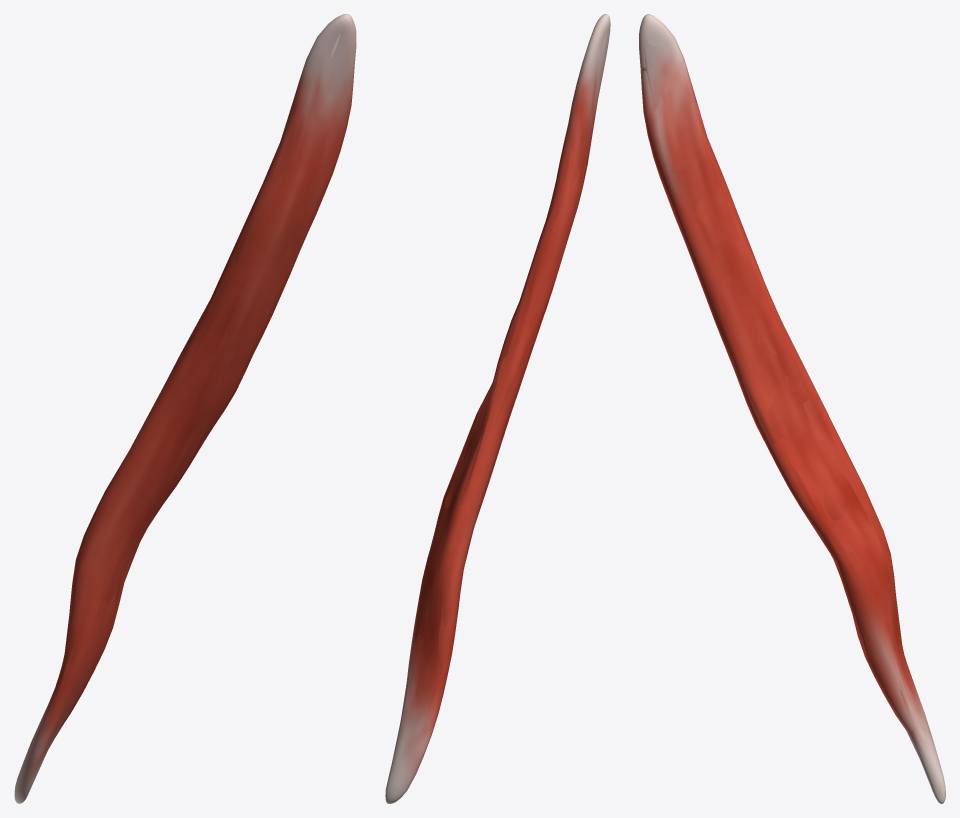
File: R Sternocephalicus.fbx
3 views of the same model, side by side, from view 1: azimuth 90°, elevation 25°; view 2: azimuth 150°, elevation 25°; view 3: azimuth 270°, elevation 25° (orthographic). The views are drawn at different scales.
Parts seen in each view (by area): view 1: R Sternocephalicus, R Sternocephalicus low; view 2: R Sternocephalicus, R Sternocephalicus low; view 3: R Sternocephalicus, R Sternocephalicus low.
Boxes of the visible parts, box(x1,y1,x2,y2) form: R Sternocephalicus: box(14, 14, 356, 803); R Sternocephalicus low: box(35, 35, 339, 778); R Sternocephalicus: box(385, 14, 610, 803); R Sternocephalicus low: box(397, 33, 606, 742); R Sternocephalicus: box(639, 14, 945, 803); R Sternocephalicus low: box(640, 36, 941, 794).
Bounding box in the file's own units: 8.29 × 65.02 × 24.16.
